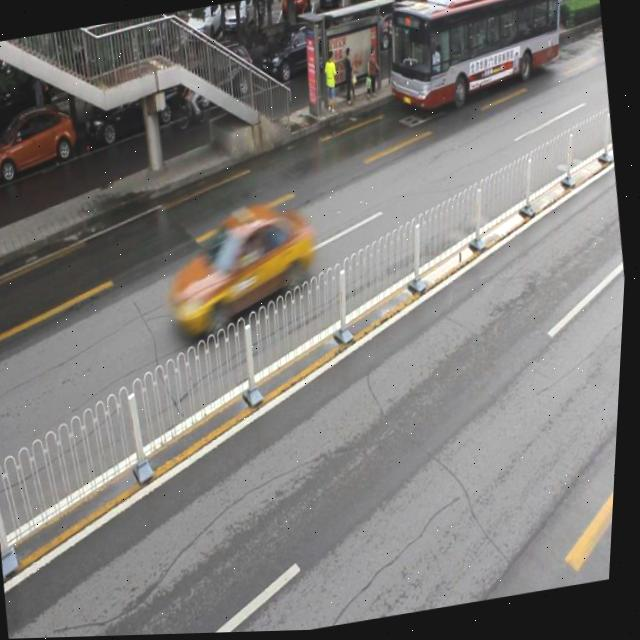car: (162, 199, 324, 339), (81, 75, 185, 145), (0, 101, 82, 183), (182, 38, 261, 114), (255, 18, 337, 88)
van: (382, 0, 571, 115)
